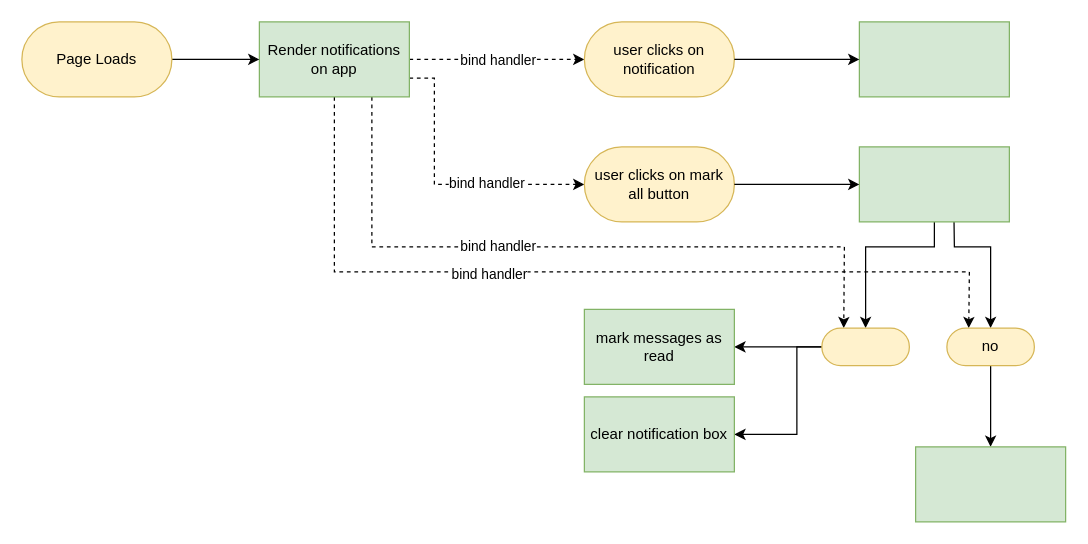
Some shapes in this 1088 by 544 pixel diagram are drawn without their labels. The shapes that lost their labels are listed below. From the top down, each one's centre as x and y in pixels, then its label:
the point at 933,59: render message
the point at 933,184: displays confirmation box
the point at 865,346: yes
the point at 990,484: cancel action
